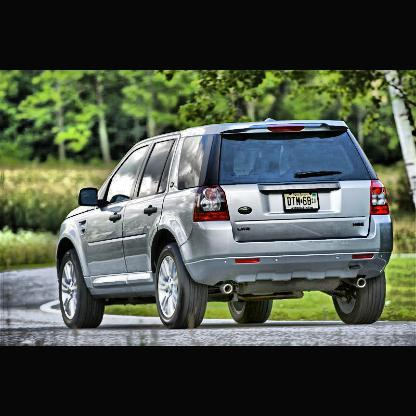Land Rover LR2 SUV 2012: (57, 117, 394, 330)
